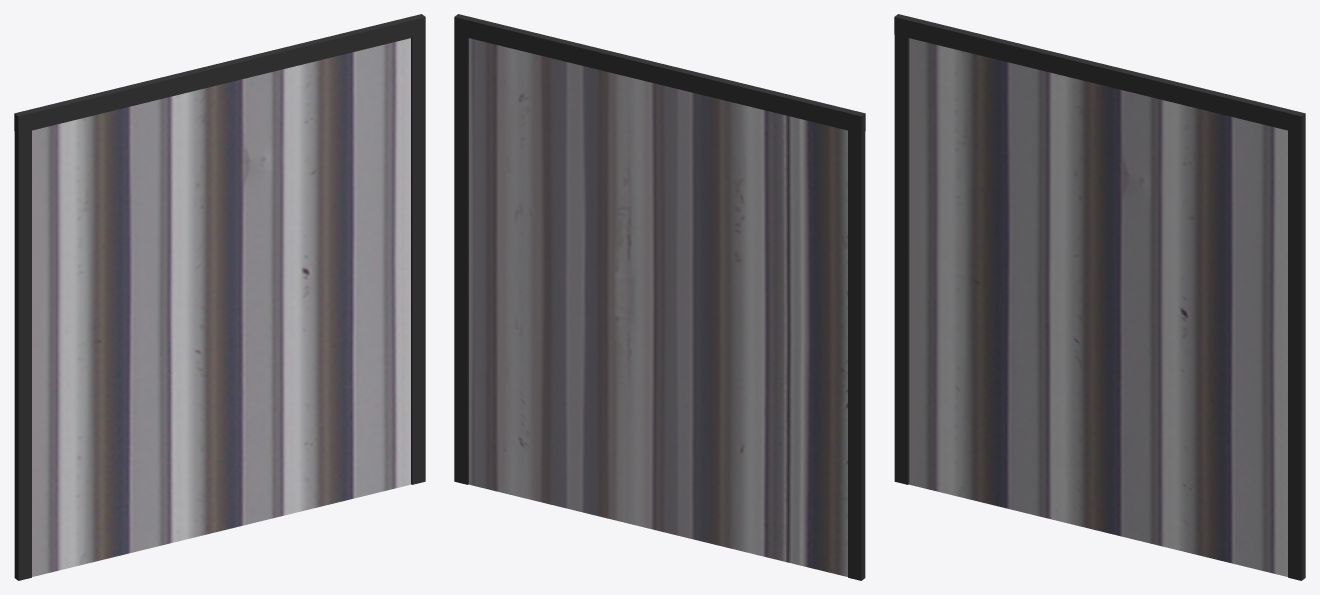
The model's file is Doort.811aae7e.glb.
3 views of the same model, side by side, from view 1: azimuth 30°, elevation 25°; view 2: azimuth 150°, elevation 25°; view 3: azimuth 330°, elevation 25° (orthographic).
Visible parts, largest first — view 1: Cube; view 2: Cube; view 3: Cube.
Part boxes in pixels (x1,y1,x2,y2): Cube: (14,14,425,580); Cube: (454,14,865,580); Cube: (894,14,1305,580).
Size of the model in its own units: 3.75 by 4.09 by 0.0652.
Materials: 4 (1 with a texture image).
